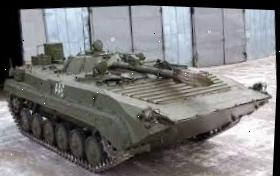tank: (0, 9, 280, 176)
